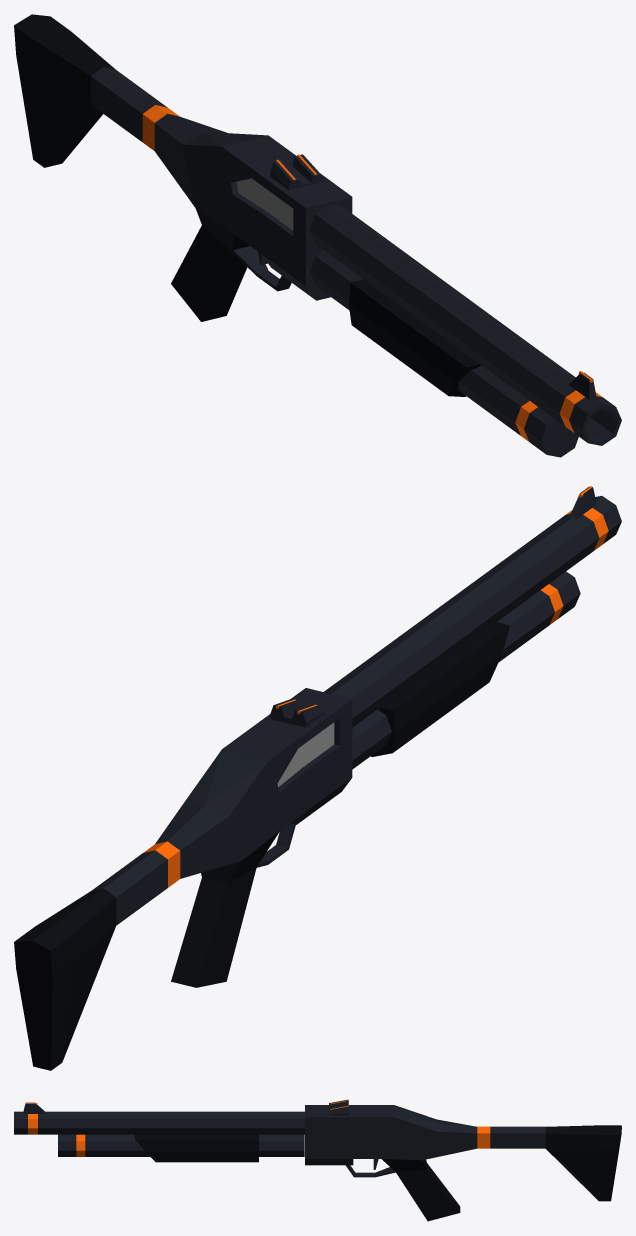
3 views of the same model, one above another, from view 1: azimuth 30°, elevation 25°; view 2: azimuth 150°, elevation 25°; view 3: azimuth 270°, elevation 25° (orthographic). The views are drawn at different scales.
Parts seen in each view (by area): view 1: M471; view 2: M471; view 3: M471.
Boxes of the visible parts, bbox=[...] form: M471: bbox=[14, 14, 621, 457]; M471: bbox=[14, 486, 621, 1070]; M471: bbox=[14, 1099, 621, 1221].
Bounding box in the file's own units: 4.09 × 18.07 × 86.41.
